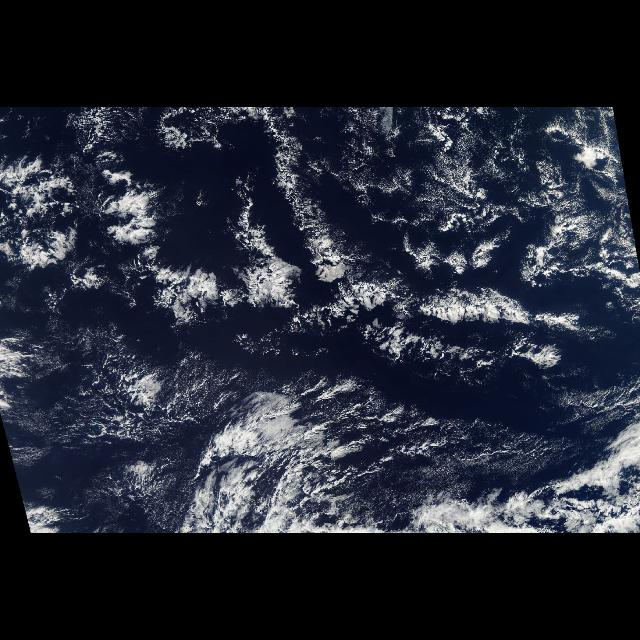Gravel: (23, 311, 250, 467), (471, 370, 639, 480)
Sugar: (329, 110, 639, 294), (0, 322, 212, 530)
